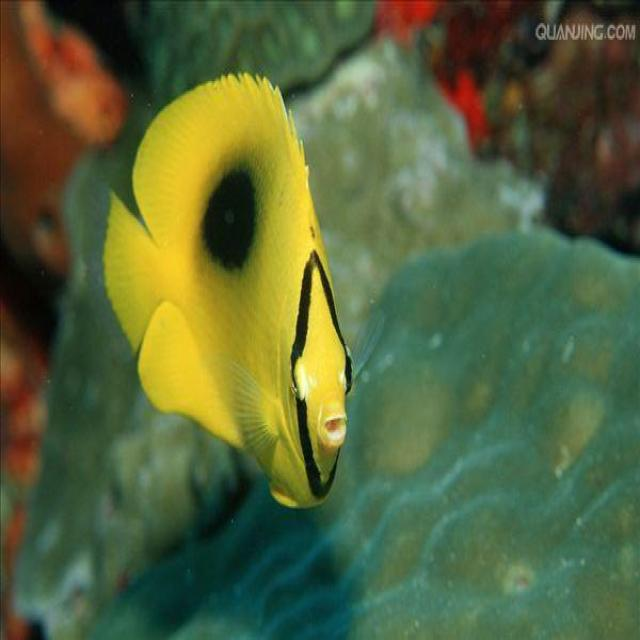ButterflyFish: (112, 75, 352, 518)
